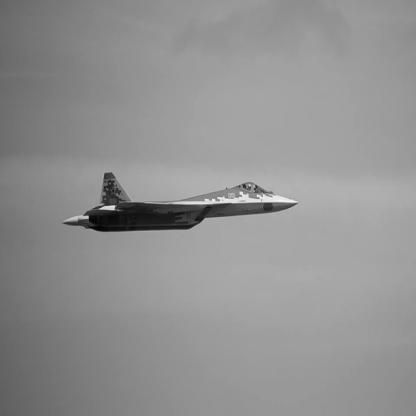Su57: (63, 173, 300, 233)
